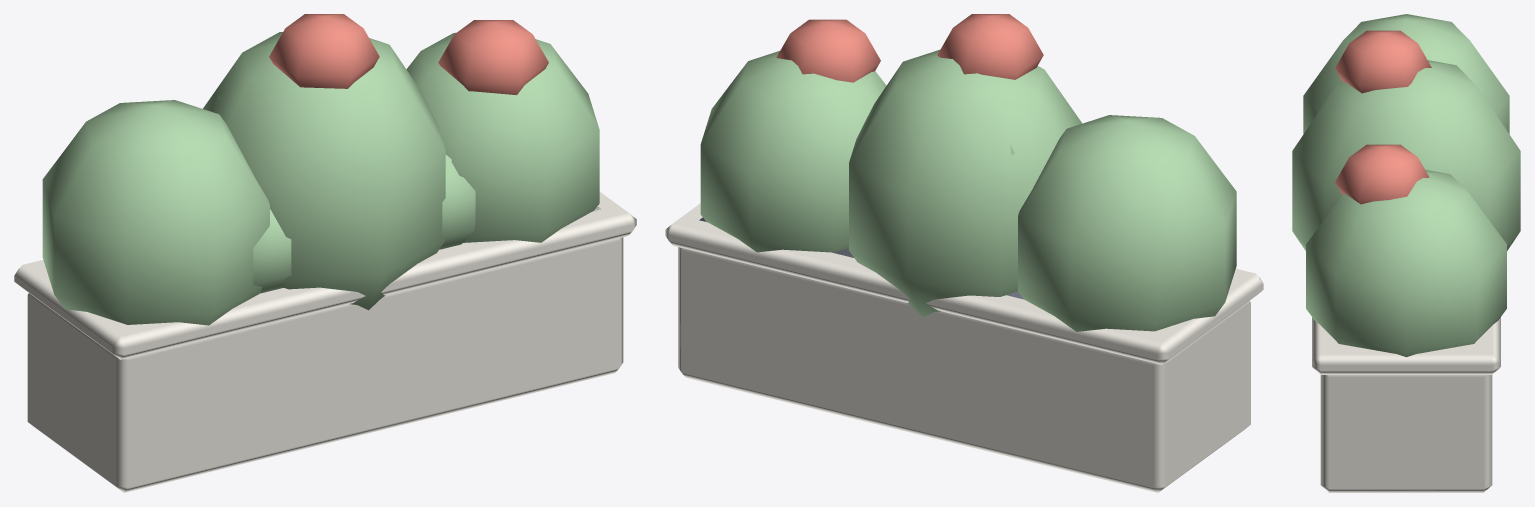
Rendered from sq-planter.glb.
The picture shows the model from 3 angles, left to right: view 1: azimuth 30°, elevation 25°; view 2: azimuth 150°, elevation 25°; view 3: azimuth 270°, elevation 25°; orthographic projection. The views are drawn at different scales.
Visible parts, largest first — view 1: planter; view 2: planter; view 3: planter.
Part boxes in pixels (left/top/right/bottom): planter: left=14, top=14, right=636, bottom=492; planter: left=665, top=14, right=1263, bottom=492; planter: left=1292, top=14, right=1520, bottom=492.
Bounding box in the file's own units: 1.89 × 1.35 × 0.7989.
